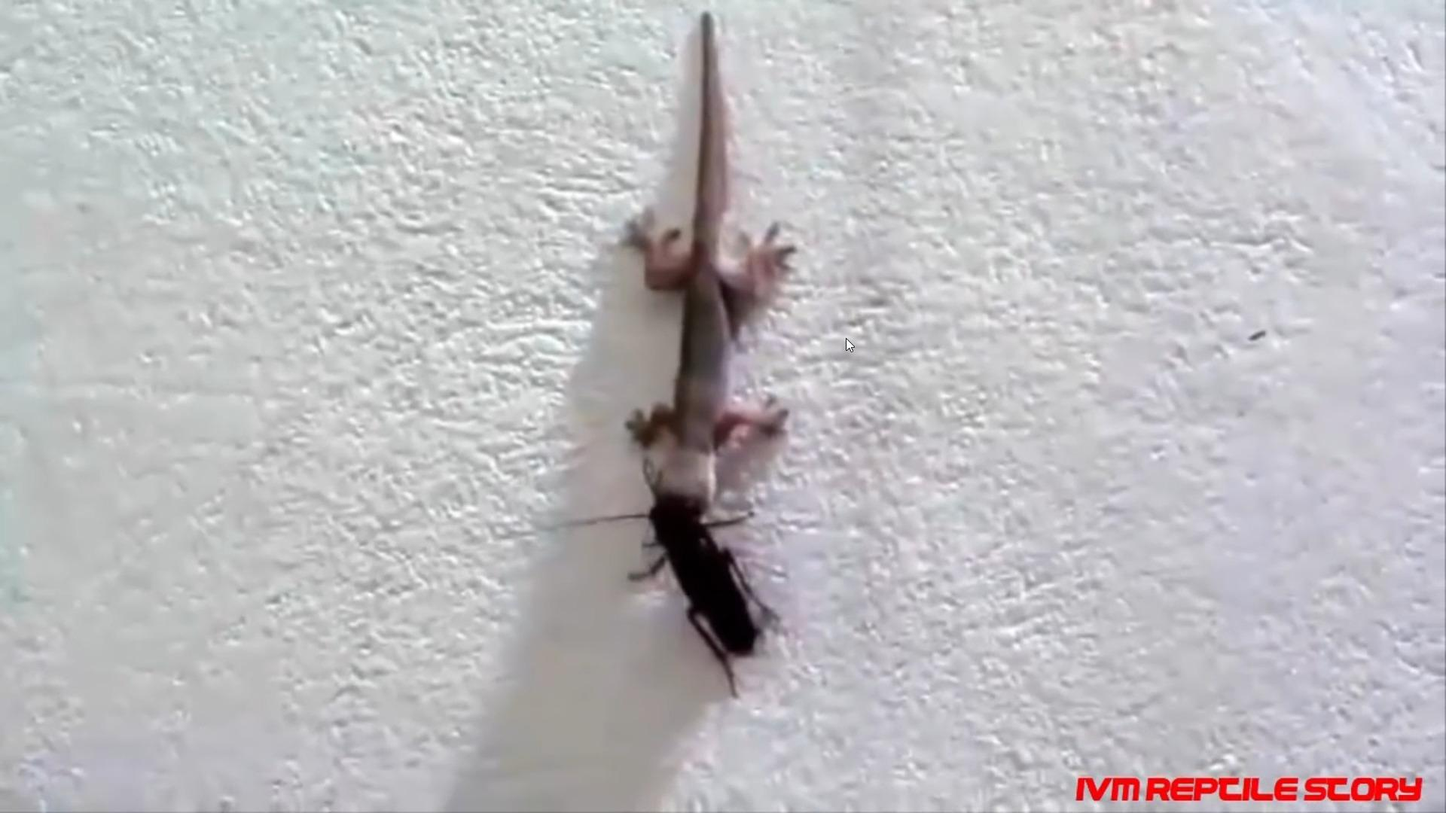cockroach: (631, 503, 762, 679)
lizard: (618, 66, 800, 509)
